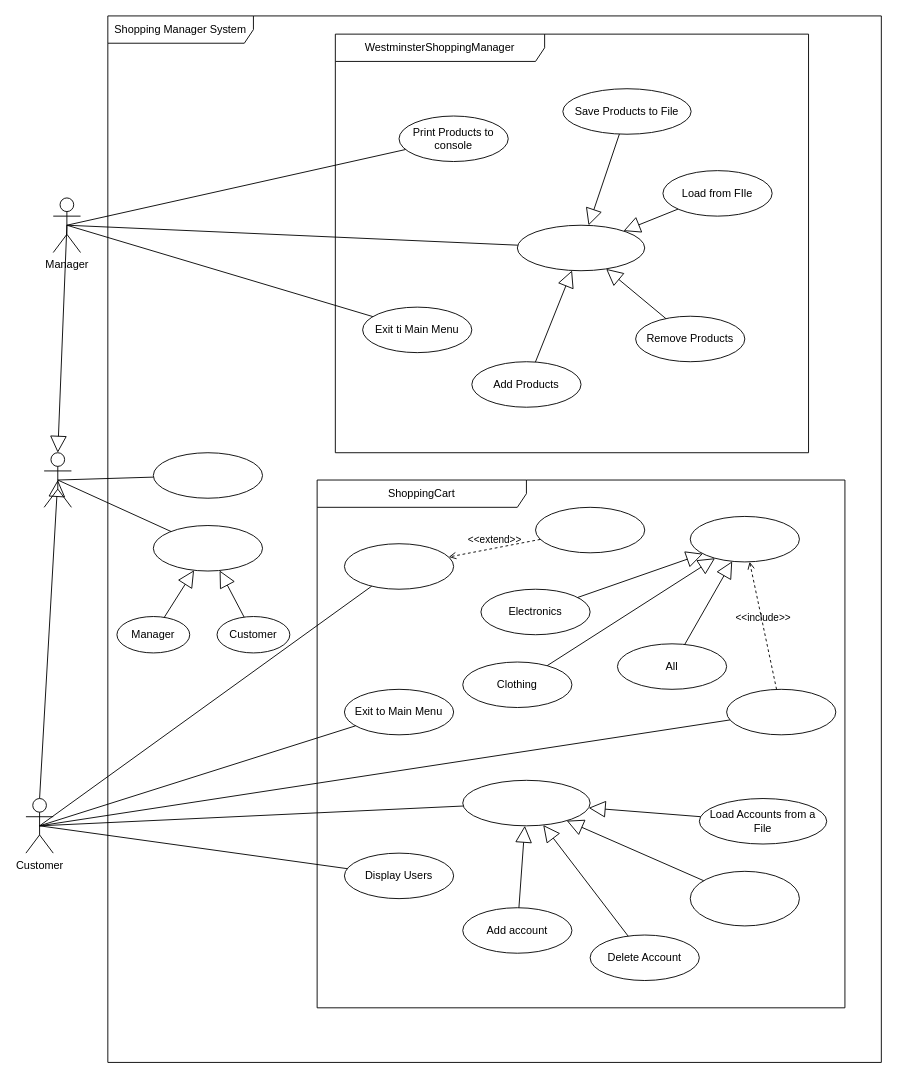
Some shapes in this 897 by 1078 pixel diagram are drawn without their labels. Each missing label, with the centre of its shape:
"Account Management" goes at (x=526, y=802).
"Add item to Cart" goes at (x=781, y=711).
"Chooese Account" goes at (x=207, y=548).
"Exit Program" goes at (x=207, y=475).
"Manage Product Table" goes at (x=399, y=566).
"Manage Products" goes at (x=580, y=247).
"Save Accounts to a File" goes at (x=744, y=898).
"User" goes at (x=57, y=479).
"View Product" goes at (x=744, y=539).
"View Product Properties" goes at (x=590, y=529).
